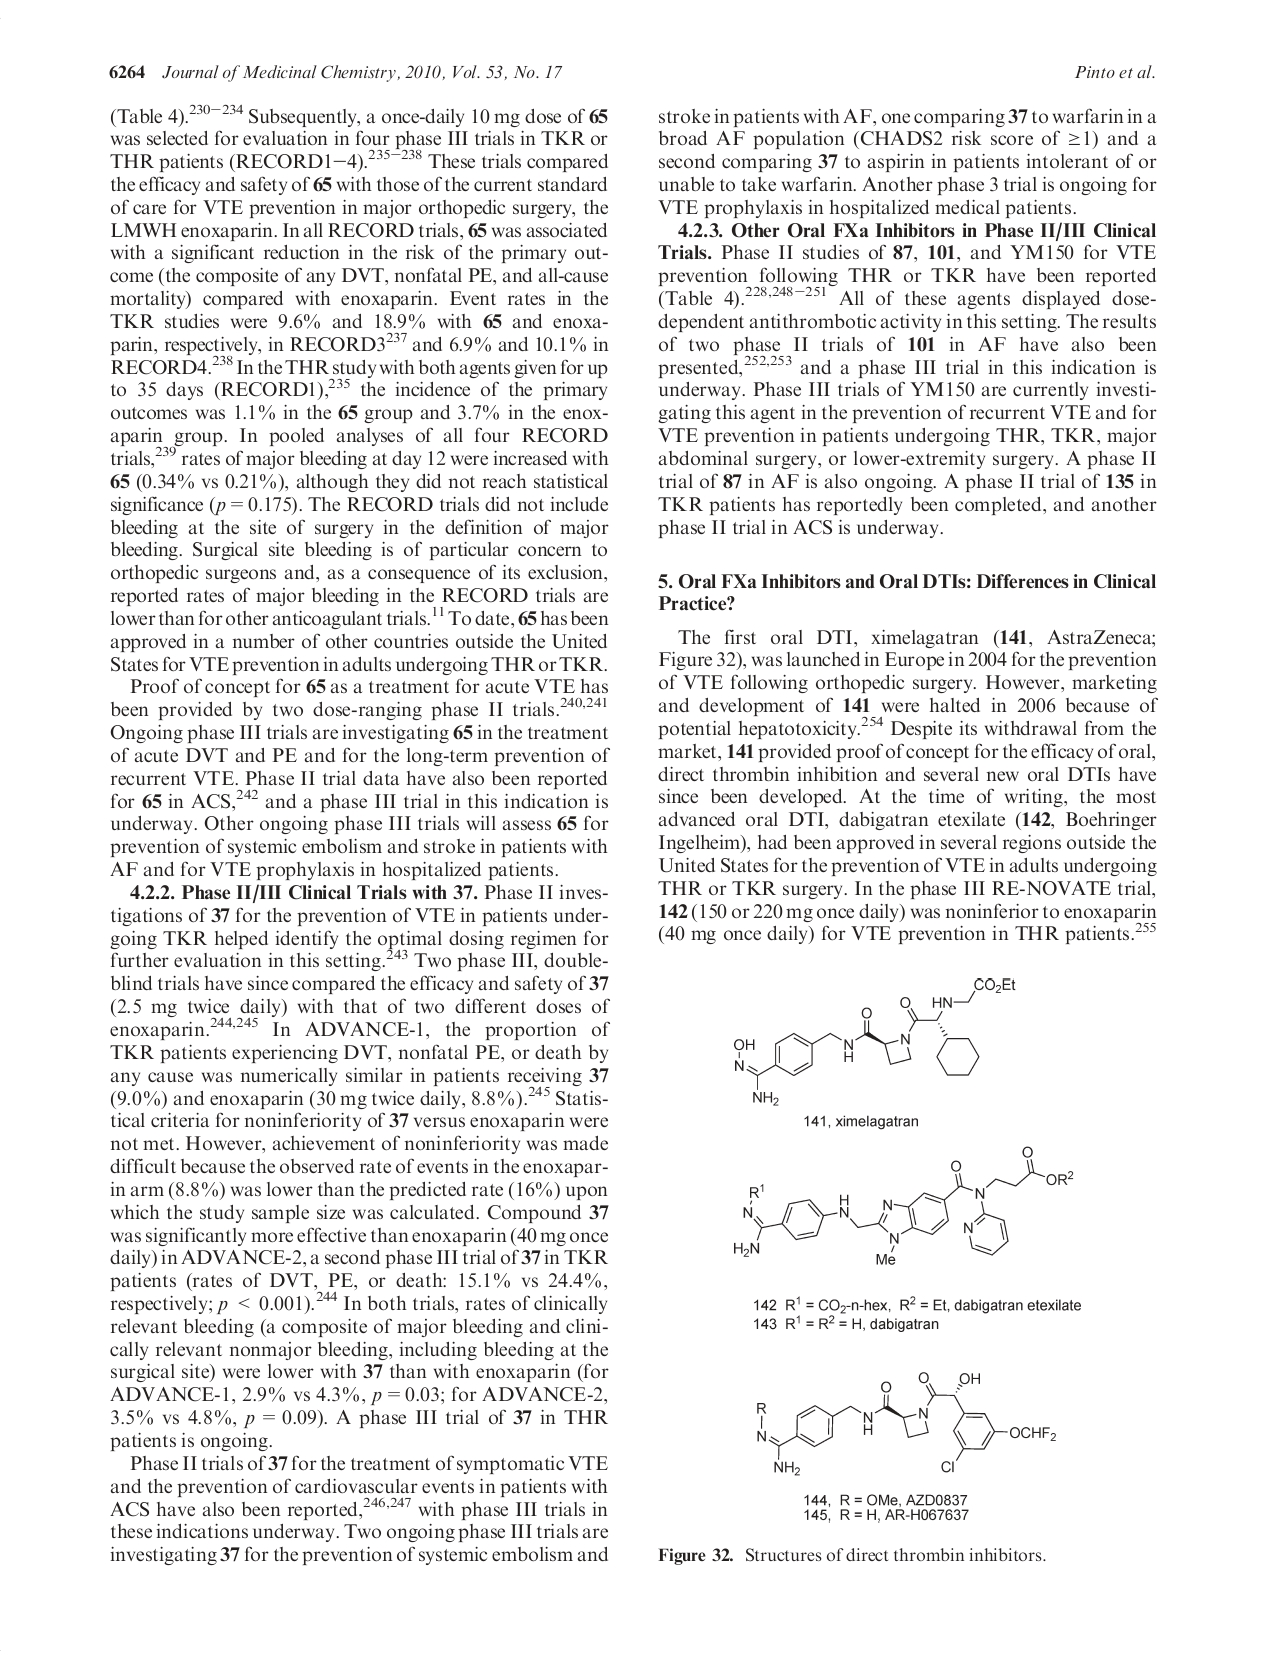exist_molecular: (727, 1138, 1082, 1270), (731, 965, 1021, 1108), (751, 1367, 1059, 1481)
